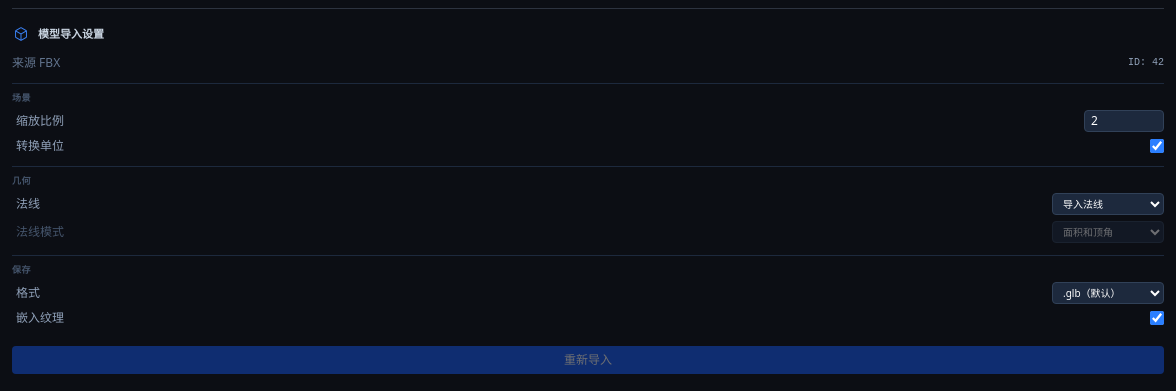
Test: ModelImportProp › "重新导入" button becomes enabled after settings change
Replace the text in the number field with "3": (1124, 121) [1084,110,1164,132]
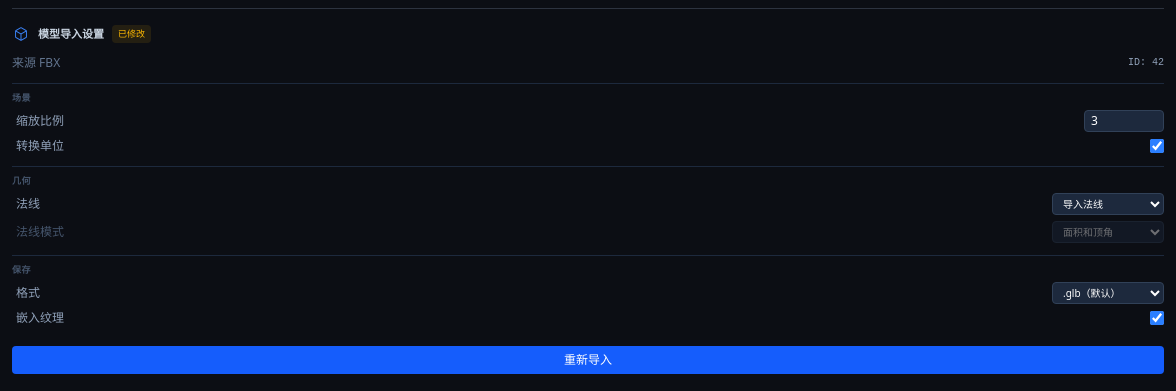
expect the button "重新导入" is enabled: met, box [12,346,1164,374]
